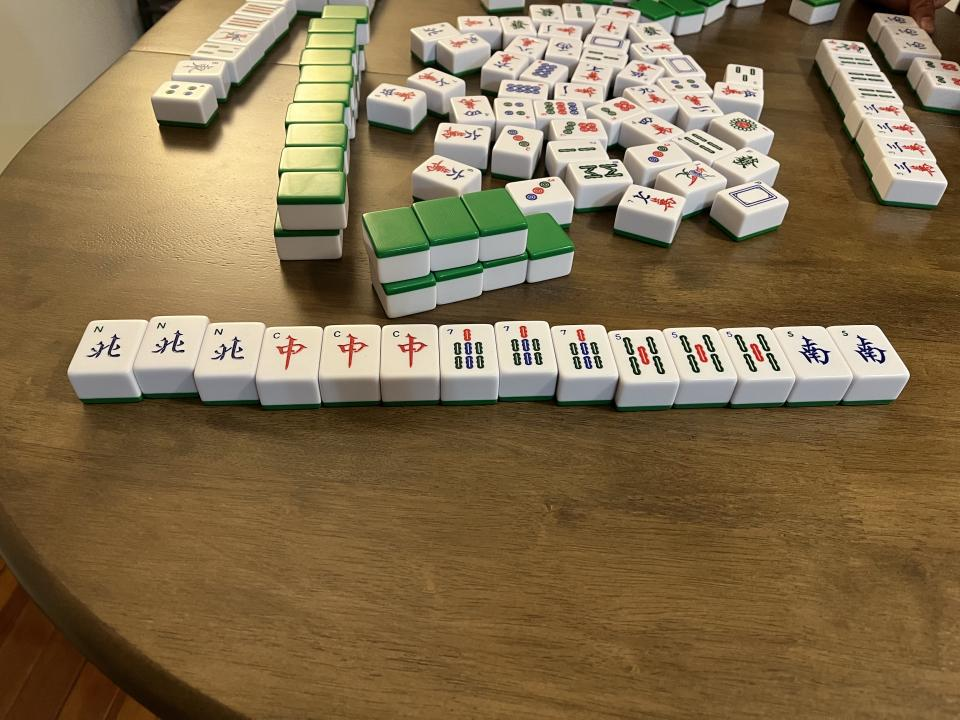bamboo-five: (717, 327, 796, 381), (664, 327, 737, 381), (608, 330, 681, 383)
bamboo-seven: (551, 325, 620, 379), (495, 321, 559, 374), (440, 324, 499, 376)
honor-north_wind: (67, 320, 149, 374), (132, 316, 210, 369), (195, 323, 265, 375)
honor-red_dragon: (257, 326, 323, 380), (320, 325, 381, 378), (380, 325, 440, 377)
honor-south_wind: (826, 326, 912, 378), (773, 327, 854, 379)
